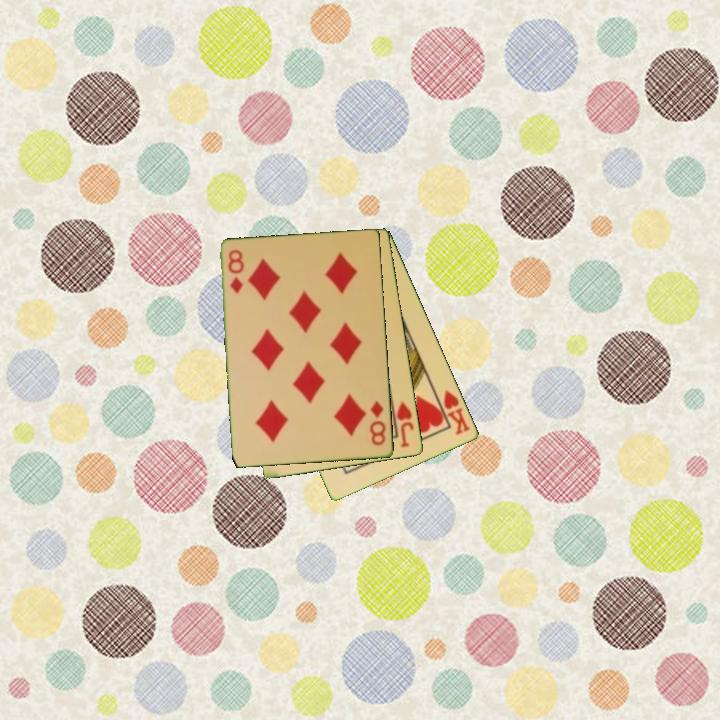8d: (366, 397, 389, 448), (225, 246, 246, 297)
Jh: (393, 398, 417, 450)
Kh: (432, 387, 474, 438)
